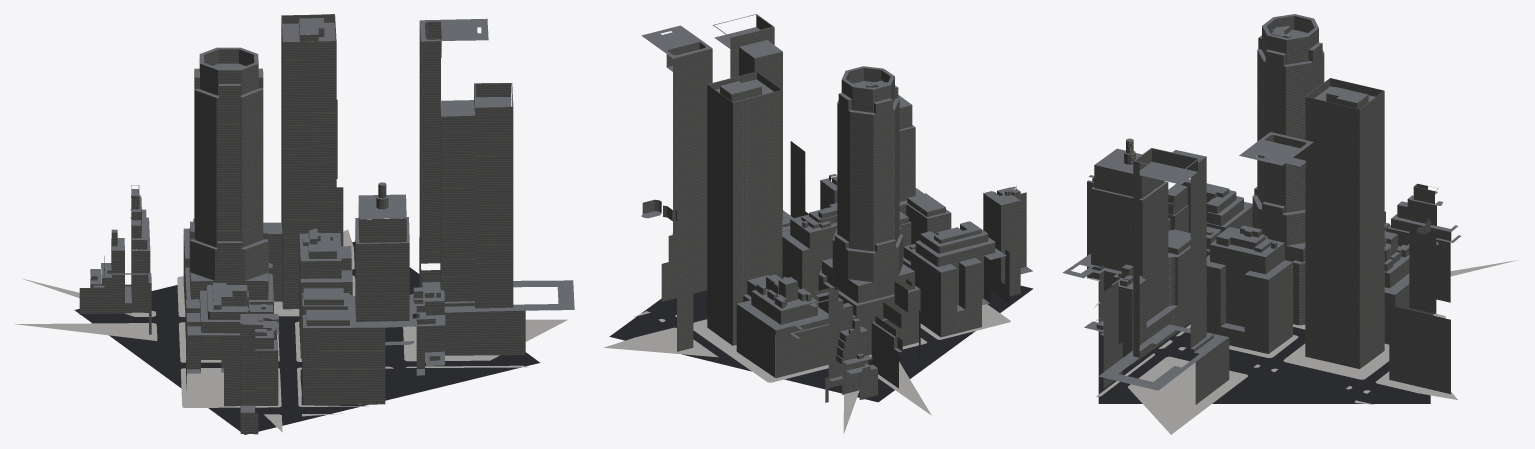
3 renders of one model, left to right at view 1: azimuth 30°, elevation 25°; view 2: azimuth 150°, elevation 25°; view 3: azimuth 270°, elevation 25°, orthographic. The views are drawn at different scales.
Parts seen in each view (by area): view 1: t6_6, detail; view 2: t6_6, detail; view 3: t6_6, detail.
Part boxes in pixels (x1,y1,x2,y2): t6_6: [74, 14, 574, 434]; detail: [14, 229, 567, 432]; t6_6: [609, 14, 1033, 402]; detail: [603, 233, 1010, 433]; t6_6: [1062, 14, 1460, 404]; detail: [1086, 260, 1518, 434].
Bounding box in the file's own units: 356 × 241 × 345.
Materials: 4 (2 with a texture image).
